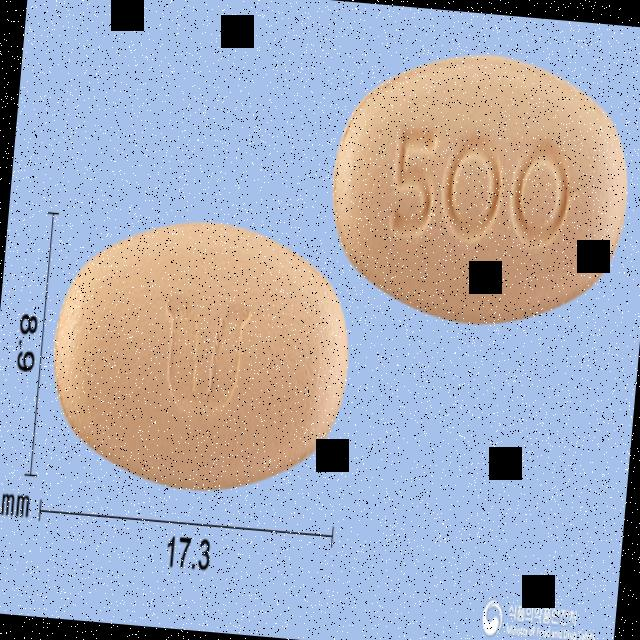Levo F: (40, 204, 359, 500), (322, 43, 640, 335)
